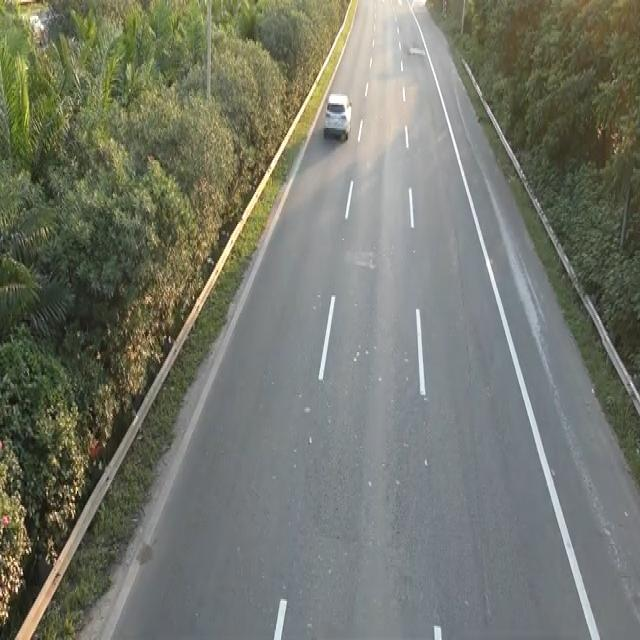car: (322, 89, 353, 142)
